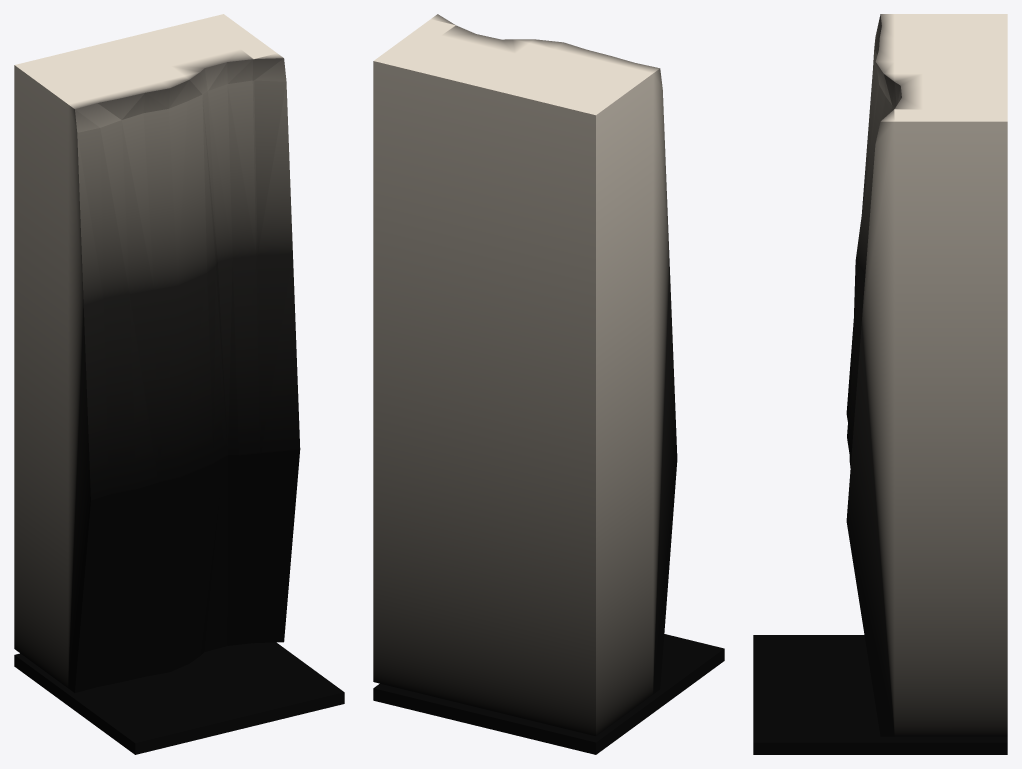
Rendered from SM_VKI_Ground_Cave_XXOO_Q10.fbx.
The picture shows the model from 3 angles, left to right: view 1: azimuth 30°, elevation 25°; view 2: azimuth 150°, elevation 25°; view 3: azimuth 270°, elevation 25°; orthographic projection. The views are drawn at different scales.
Visible parts, largest first — view 1: SM_VKI_Ground_Cave_XXOO_Q10.001; view 2: SM_VKI_Ground_Cave_XXOO_Q10.001; view 3: SM_VKI_Ground_Cave_XXOO_Q10.001.
Boxes of the visible parts, left/top/right/bottom form: SM_VKI_Ground_Cave_XXOO_Q10.001: left=14, top=14, right=344, bottom=754; SM_VKI_Ground_Cave_XXOO_Q10.001: left=373, top=14, right=724, bottom=754; SM_VKI_Ground_Cave_XXOO_Q10.001: left=753, top=14, right=1007, bottom=754.
Bounding box in the file's own units: 1.5 × 4.12 × 1.5.
